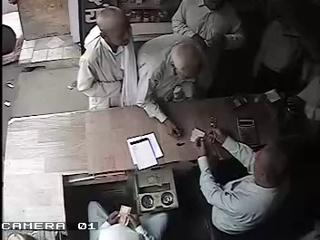Normal: (195, 128, 292, 239), (136, 34, 212, 136), (170, 0, 248, 96), (97, 209, 166, 240)
shoplifting: (75, 6, 138, 110)
